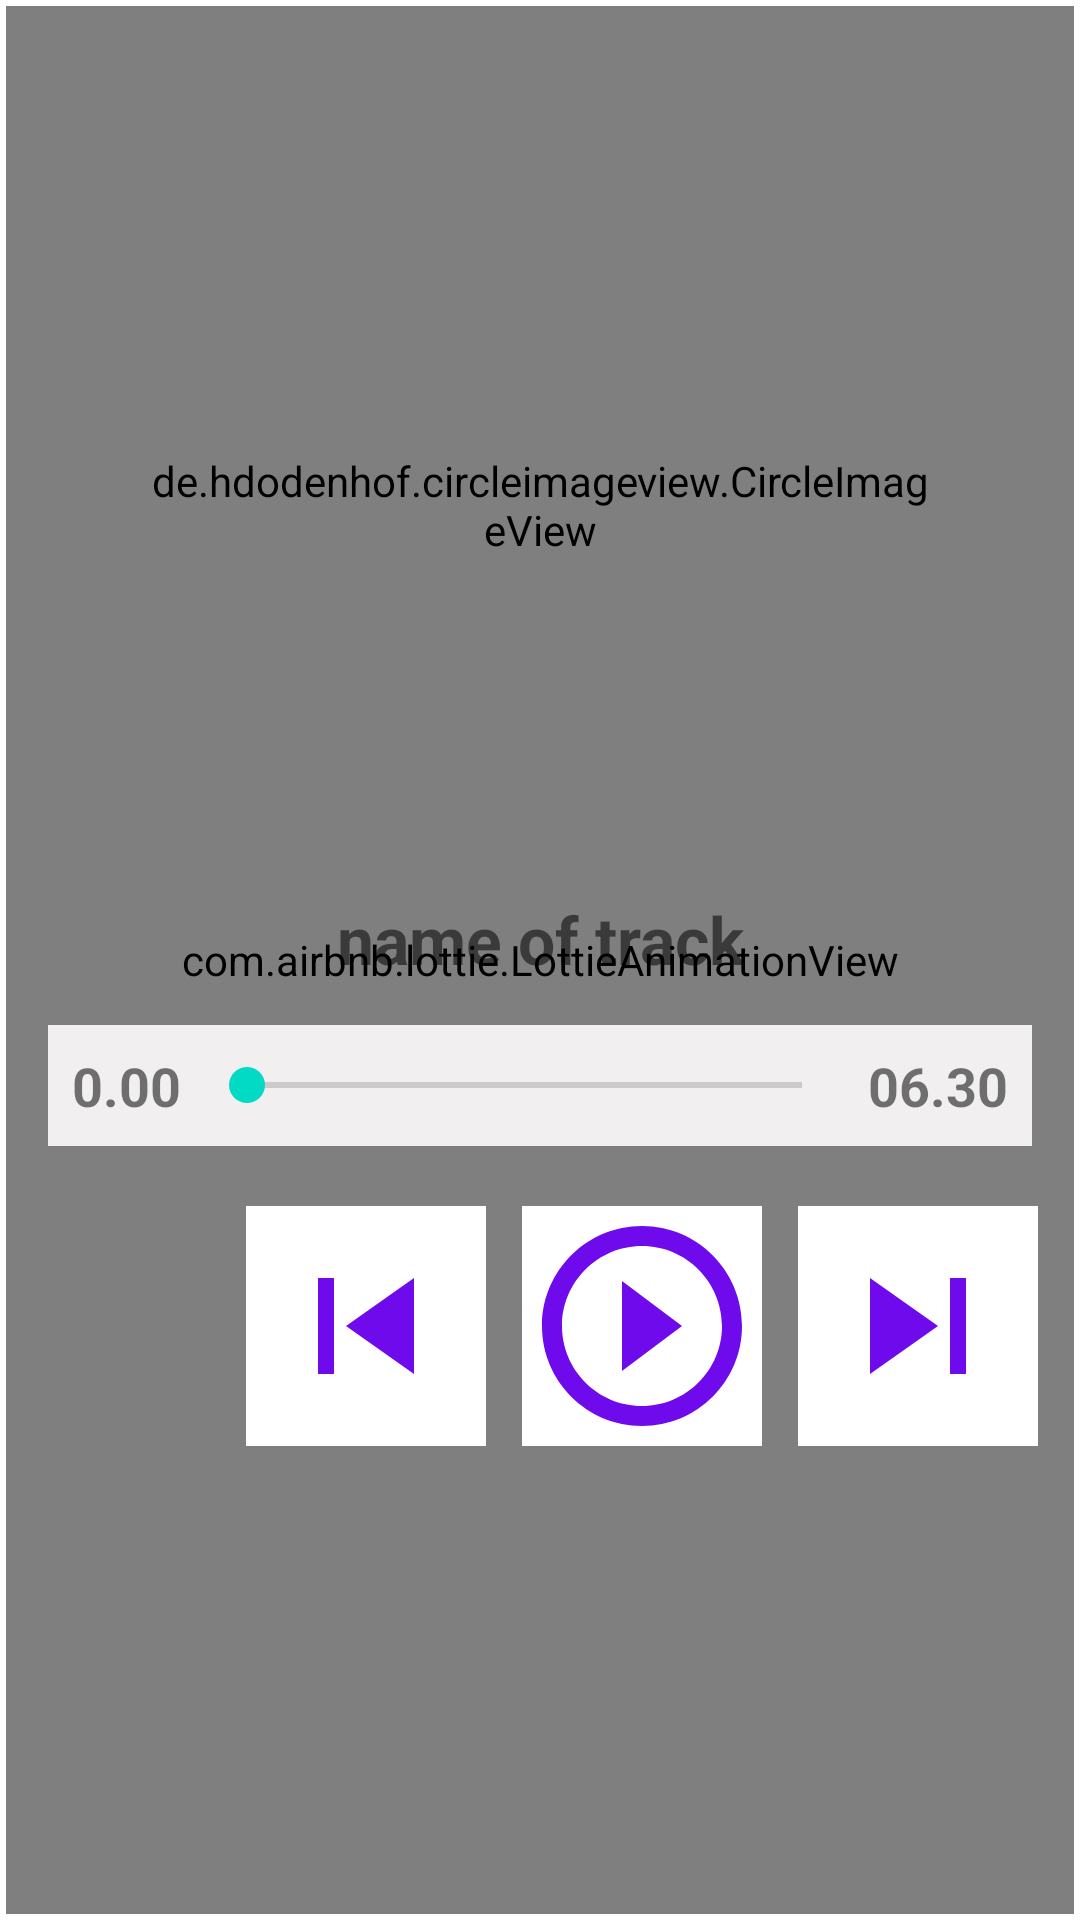

Screen size 1080×1920. Icon name, then its center in pixels as point (x, y):
next: point (918, 1326)
play circle: point (642, 1326)
previous: point (366, 1326)
